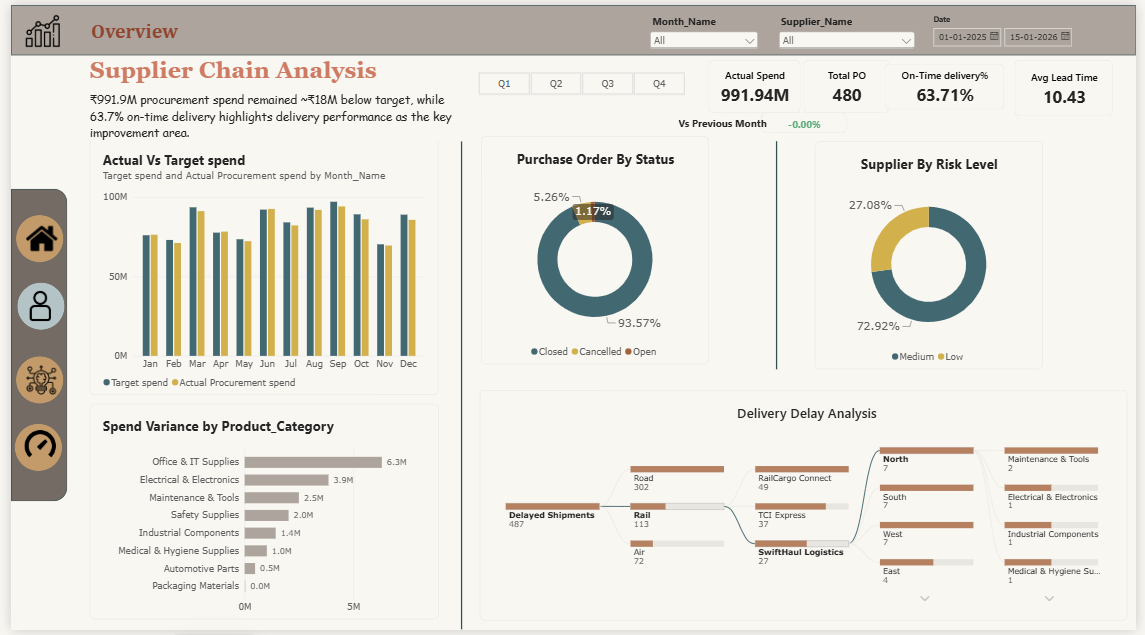

The page's visual inventory and layout, read from the dashboard file:
{"tool":"powerbi","page":{"name":"Overview","canvas":[1800,1000],"ordinal":1},"visuals":[{"type":"shape","box":[0,0,1800.3,80.5],"z":0},{"type":"textbox","box":[127.4,21.8,201.2,46.9],"z":1000},{"type":"image","box":[10,13.3,81.7,55],"z":2000},{"type":"cardVisual","fields":{"Data":["1st page measures.Actual Procurement spend"]},"box":[1116.4,87.2,147.5,85.5],"z":3000},{"type":"cardVisual","fields":{"Data":["1st page measures.Total PO"]},"box":[1269,87.2,137.6,85.6],"z":4000},{"type":"cardVisual","fields":{"Data":["1st page measures.On-Time delivery%"]},"box":[1398,93.9,191,73.7],"z":5000},{"type":"cardVisual","fields":{"Data":["1st page measures.Avg Lead Time"]},"box":[1605.9,87.2,157.5,90.5],"z":6000},{"type":"clusteredColumnChart","title":"Actual Vs Target spend ","fields":{"Category":["Dim_date.Month_Name"],"Y":["1st page measures.Target spend","1st page measures.Actual Procurement spend"]},"box":[126,212,558,412.2],"z":7000},{"type":"clusteredBarChart","fields":{"Category":["Dim_Category.Product_Category"],"Y":["1st page measures.Spend Variance"]},"box":[126.2,638.9,558.1,345.1],"z":8000},{"type":"shape","box":[713.8,218.9,13.8,780.9],"z":9000},{"type":"donutChart","title":"Purchase Order By Status","fields":{"Category":["Fact_Procurement.PO_Status"],"Y":["1st page measures.Total PO"]},"box":[751.3,211,364.8,364.8],"z":10000},{"type":"donutChart","title":"Supplier By Risk Level","fields":{"Category":["Dim_Supplier.Risk_Level"],"Y":["Count(Dim_Supplier.Supplier_ID)"]},"box":[1285.7,218.9,364.8,364.8],"z":11000},{"type":"shape","box":[1218.7,218.9,13.8,364.8],"z":12000},{"type":"decompositionTreeVisual","fields":{"Analyze":["1st page measures.Delayed Shipments"],"ExplainBy":["Fact_Procurement.Transport_Mode","Dim_Carrier.Carrier_Name","Dim_Supplier.Region","Dim_Category.Product_Category"]},"box":[751,615.2,1035.9,368.8],"z":13000},{"type":"textbox","box":[125.7,82.1,613.5,62],"z":14000},{"type":"textbox","box":[784.5,638.7,979,40.2],"z":15000},{"type":"slicer","fields":{"Values":["Dim_date.Month_Name"]},"box":[1018.8,13.4,181.8,301],"z":16000},{"type":"cardVisual","fields":{"Data":["1st page measures.Mom Var Spend"]},"box":[1200.2,172.7,137.5,33.5],"z":17000},{"type":"textbox","box":[1067.8,177.7,164.3,30.2],"z":18000},{"type":"textbox","box":[126,138,602,80],"z":19000},{"type":"slicer","fields":{"Values":["Dim_Supplier.Supplier_Name"]},"box":[1223.2,13.4,226.2,301.6],"z":20000},{"type":"slicer","fields":{"Values":["Dim_date.Date"]},"box":[1467.8,13.4,306.6,55.3],"z":21000},{"type":"slicer","fields":{"Values":["Dim_date.Quarter"]},"box":[727.2,105.6,368.6,38.5],"z":22000},{"type":"shape","box":[0,293,90,500],"z":23000},{"type":"shape","box":[6.5,669.4,75.8,75.8],"z":24000},{"type":"shape","box":[8.1,562.9,75.8,75.8],"z":25000},{"type":"shape","box":[10,443.3,75.8,75.8],"z":26000},{"type":"shape","box":[8.1,335.5,75.8,75.8],"z":27000},{"type":"image","box":[23.3,345,50,55],"z":28000},{"type":"image","box":[6.7,453.3,81.7,55],"z":29000},{"type":"image","box":[15,576.7,65,48.3],"z":30000},{"type":"image","box":[5,678.3,81.7,55],"z":31000}]}

Visuals, with their boxes in screenshot pixels (x1, y1, x2, y2), scaled from the page's 1800x1000 canvas onto the 1145x635 screenshot:
shape: (left=0, top=0, right=1144, bottom=51)
textbox: (left=81, top=14, right=209, bottom=44)
image: (left=6, top=8, right=58, bottom=43)
cardVisual - 1st page measures.Actual Procurement spend: (left=710, top=55, right=804, bottom=110)
cardVisual - 1st page measures.Total PO: (left=807, top=55, right=895, bottom=110)
cardVisual - 1st page measures.On-Time delivery%: (left=889, top=60, right=1011, bottom=106)
cardVisual - 1st page measures.Avg Lead Time: (left=1022, top=55, right=1122, bottom=113)
"Actual Vs Target spend " clusteredColumnChart: (left=80, top=135, right=435, bottom=396)
clusteredBarChart - Dim_Category.Product_Category x 1st page measures.Spend Variance: (left=80, top=406, right=435, bottom=625)
shape: (left=454, top=139, right=463, bottom=634)
"Purchase Order By Status" donutChart: (left=478, top=134, right=710, bottom=366)
"Supplier By Risk Level" donutChart: (left=818, top=139, right=1050, bottom=371)
shape: (left=775, top=139, right=784, bottom=371)
decompositionTreeVisual - 1st page measures.Delayed Shipments x Fact_Procurement.Transport_Mode: (left=478, top=391, right=1137, bottom=625)
textbox: (left=80, top=52, right=470, bottom=92)
textbox: (left=499, top=406, right=1122, bottom=431)
slicer - Dim_date.Month_Name: (left=648, top=9, right=764, bottom=200)
cardVisual - 1st page measures.Mom Var Spend: (left=763, top=110, right=851, bottom=131)
textbox: (left=679, top=113, right=784, bottom=132)
textbox: (left=80, top=88, right=463, bottom=138)
slicer - Dim_Supplier.Supplier_Name: (left=778, top=9, right=922, bottom=200)
slicer - Dim_date.Date: (left=934, top=9, right=1129, bottom=44)
slicer - Dim_date.Quarter: (left=463, top=67, right=697, bottom=92)
shape: (left=0, top=186, right=57, bottom=504)
shape: (left=4, top=425, right=52, bottom=473)
shape: (left=5, top=357, right=53, bottom=406)
shape: (left=6, top=281, right=55, bottom=330)
shape: (left=5, top=213, right=53, bottom=261)
image: (left=15, top=219, right=47, bottom=254)
image: (left=4, top=288, right=56, bottom=323)
image: (left=10, top=366, right=51, bottom=397)
image: (left=3, top=431, right=55, bottom=466)
